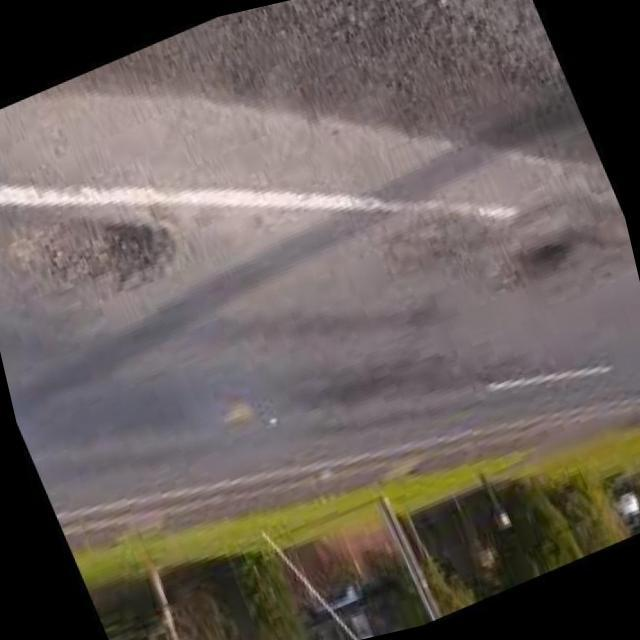pothole: (0, 185, 183, 334), (480, 213, 586, 298)
